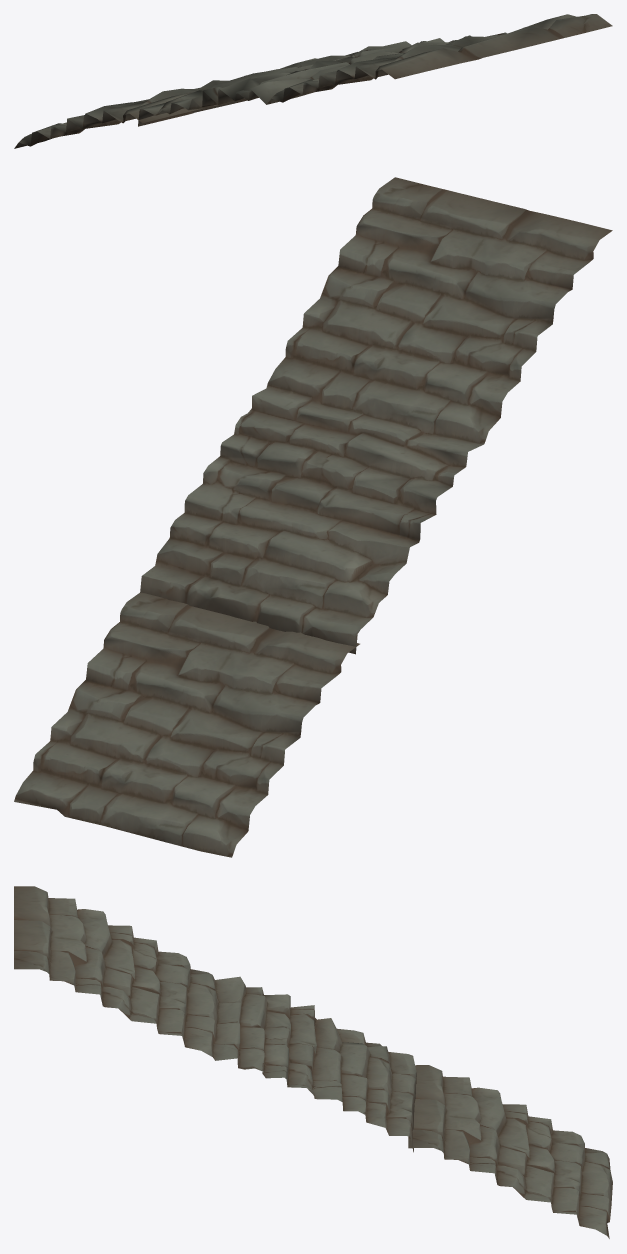
Rendered from SM_FW01_Ruins_Int_Stairs_6x3x2_L_01.fbx.
3 views of the same model, one above another, from view 1: azimuth 30°, elevation 25°; view 2: azimuth 150°, elevation 25°; view 3: azimuth 270°, elevation 25° (orthographic). The views are drawn at different scales.
Parts seen in each view (by area): view 1: SM_FW01_Ruins_Int_Stairs_6x3x2_L_01_LOD0; view 2: SM_FW01_Ruins_Int_Stairs_6x3x2_L_01_LOD0; view 3: SM_FW01_Ruins_Int_Stairs_6x3x2_L_01_LOD0.
Boxes of the visible parts, <box> form: SM_FW01_Ruins_Int_Stairs_6x3x2_L_01_LOD0: <box>14,14,612,148</box>; SM_FW01_Ruins_Int_Stairs_6x3x2_L_01_LOD0: <box>14,177,612,857</box>; SM_FW01_Ruins_Int_Stairs_6x3x2_L_01_LOD0: <box>14,886,612,1238</box>.
Size of what is drawn, in the model's own units: 1.99 by 3.07 by 6.07.
